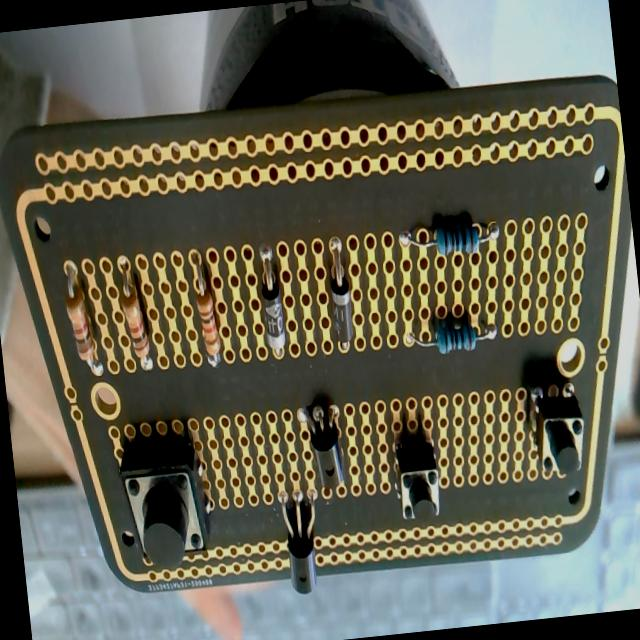diode: (187, 247, 226, 370), (253, 233, 290, 359), (323, 232, 357, 351)
resistor: (61, 262, 105, 382), (400, 210, 499, 260), (406, 308, 496, 358), (116, 262, 153, 372)
switch: (114, 422, 218, 573), (530, 384, 590, 481), (392, 437, 444, 523)
transistor: (280, 488, 322, 594), (304, 400, 348, 497)
